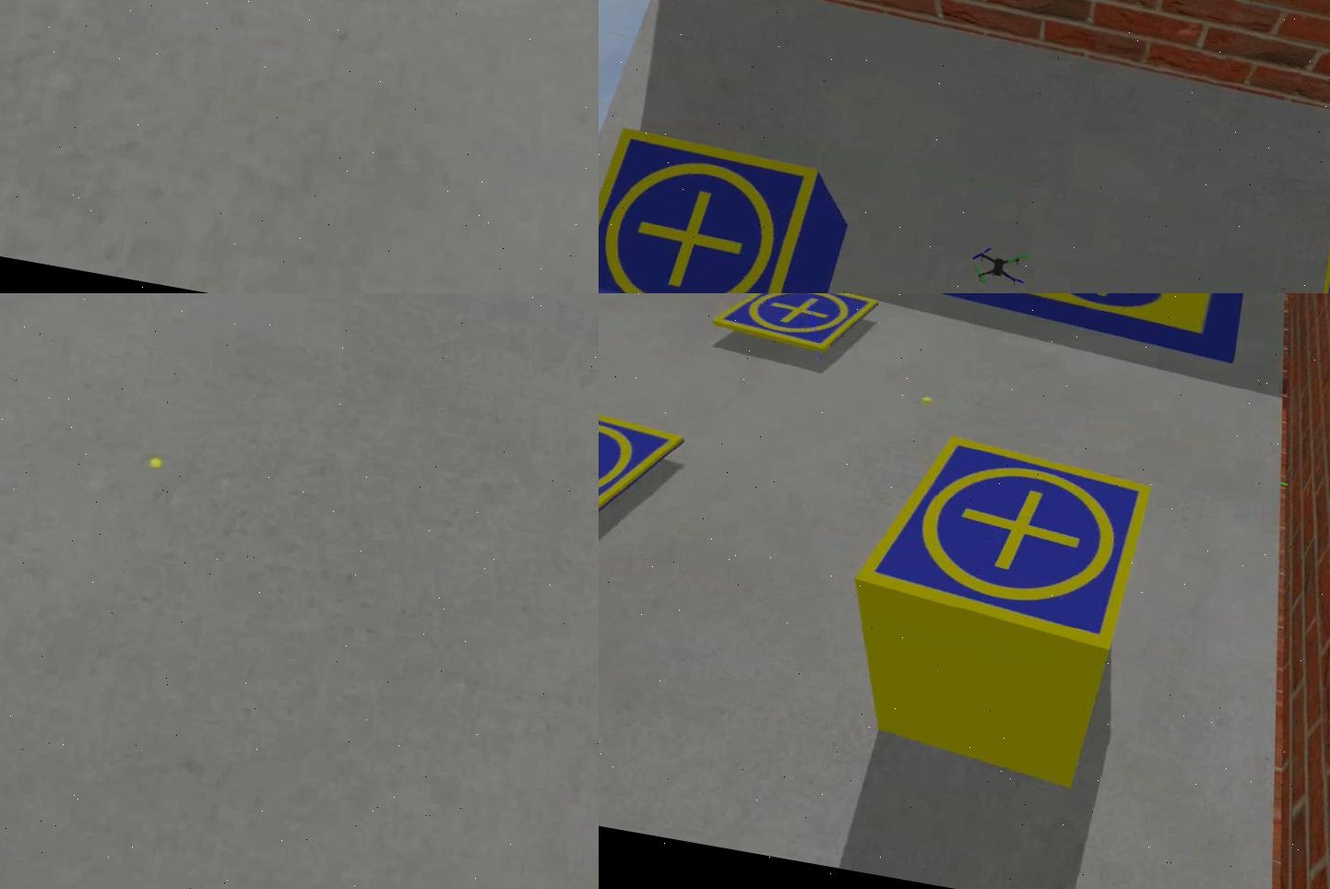large_base: (938, 293, 1249, 356)
small_base: (854, 424, 1152, 657), (598, 122, 818, 293), (598, 378, 684, 554), (707, 293, 877, 365)
